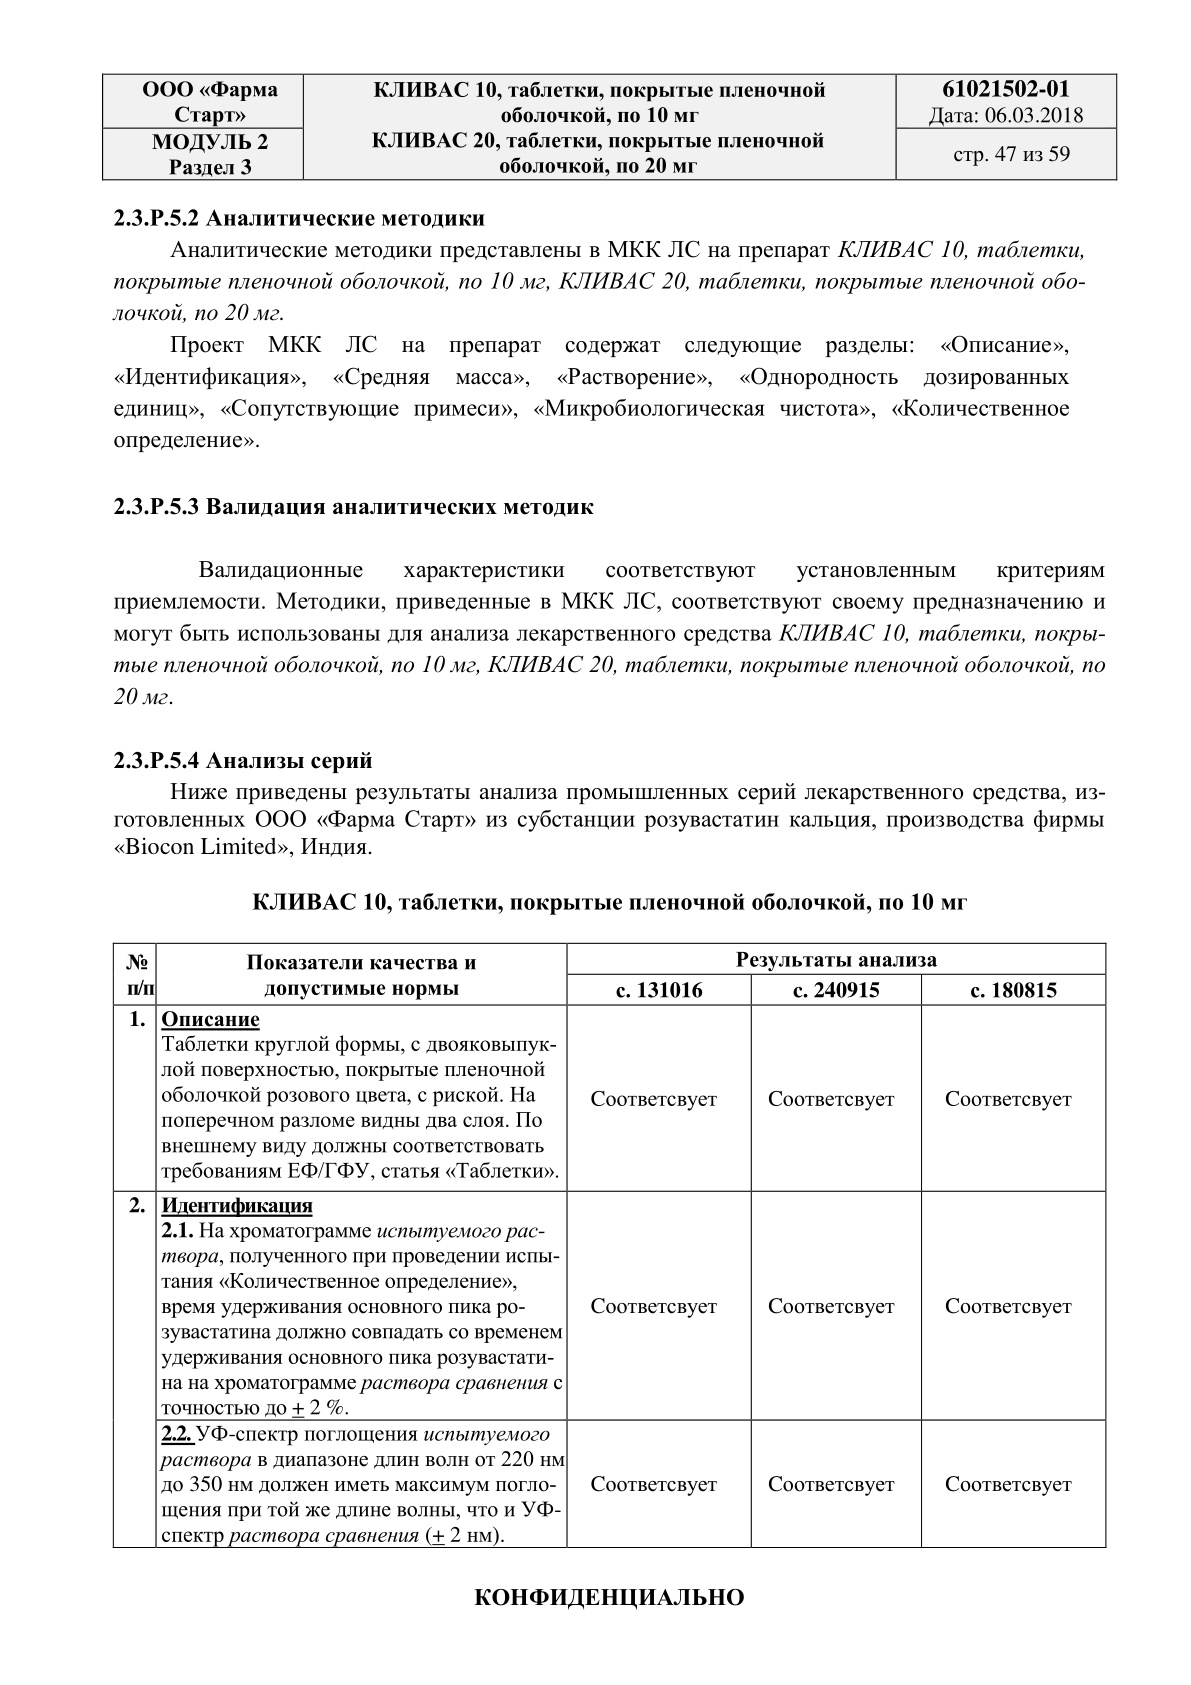merged_cells: (111, 940, 1109, 1550), (101, 71, 1119, 180)
